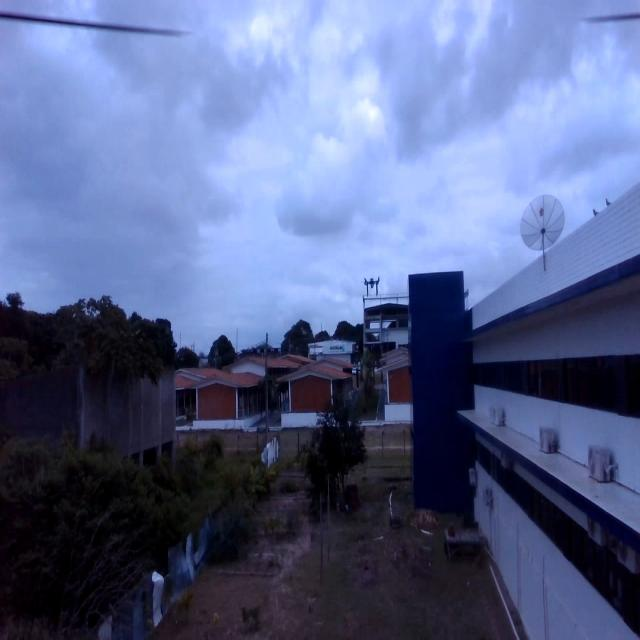-uav-: (363, 268, 381, 304)
